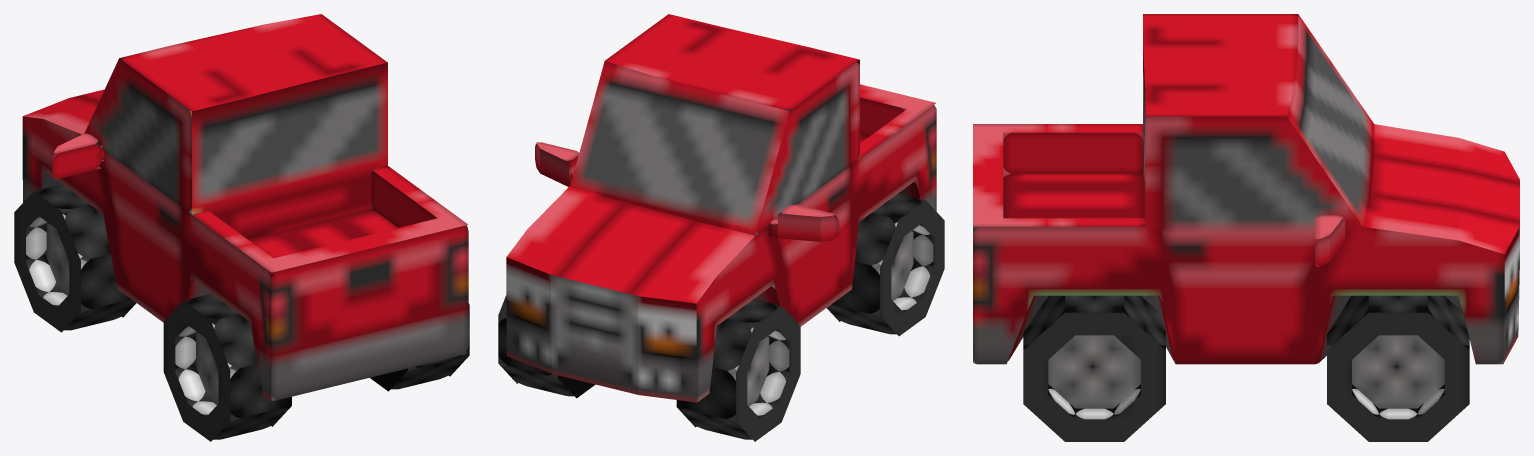
Rendered from Truck.fbx.
3 views of the same model, side by side, from view 1: azimuth 30°, elevation 25°; view 2: azimuth 150°, elevation 25°; view 3: azimuth 270°, elevation 25° (orthographic). The views are drawn at different scales.
Parts seen in each view (by area): view 1: body, cylinder_3, cylinder, mirror_r_1, cylinder_2; view 2: body, cylinder, cylinder_3, cylinder_1, mirror_r_1, mirror_r; view 3: body, cylinder_2, cylinder_1, mirror_r.
Boxes of the visible parts, left/top/right/bottom form: body: left=22, top=14, right=468, bottom=400; cylinder_3: left=163, top=293, right=291, bottom=441; cylinder: left=14, top=184, right=136, bottom=332; mirror_r_1: left=52, top=132, right=104, bottom=178; cylinder_2: left=370, top=303, right=469, bottom=391; body: left=506, top=14, right=936, bottom=402; cylinder: left=676, top=299, right=800, bottom=441; cylinder_3: left=827, top=193, right=944, bottom=336; cylinder_1: left=498, top=295, right=595, bottom=398; mirror_r_1: left=768, top=204, right=839, bottom=241; mirror_r: left=535, top=142, right=579, bottom=186; body: left=973, top=14, right=1519, bottom=364; cylinder_2: left=1023, top=295, right=1165, bottom=441; cylinder_1: left=1327, top=295, right=1469, bottom=441; mirror_r: left=1315, top=215, right=1345, bottom=266.
Size of the model in its own units: 160 by 142 by 225.
Materials: 1 (1 with a texture image).
